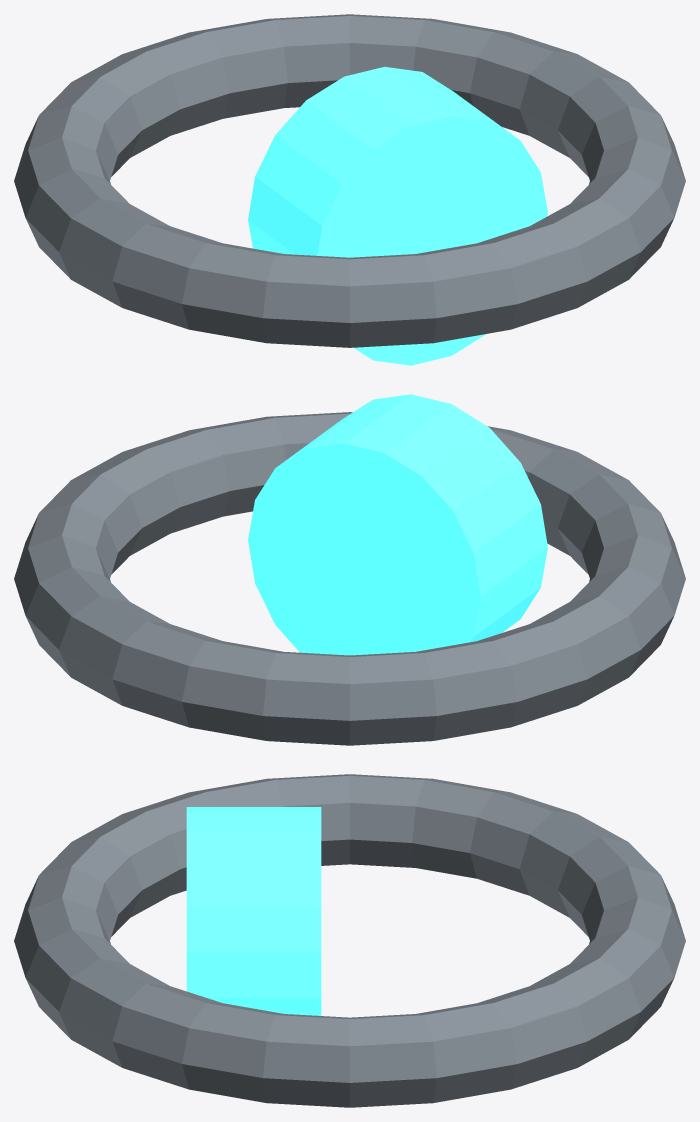
The model's file is camera_eye.glb.
3 renders of one model, top to bottom at view 1: azimuth 30°, elevation 25°; view 2: azimuth 150°, elevation 25°; view 3: azimuth 270°, elevation 25°, orthographic.
Visible parts, largest first — view 1: part_000, part_001; view 2: part_000, part_001; view 3: part_000, part_001.
Boxes of the visible parts, box(x1,y1,x2,y2) form: part_000: box(14, 14, 685, 347); part_001: box(248, 66, 547, 365); part_000: box(14, 412, 685, 745); part_001: box(248, 394, 547, 655); part_000: box(14, 774, 685, 1107); part_001: box(186, 807, 321, 1015).
Bounding box in the file's own units: 0.07 × 0.0276 × 0.07.
